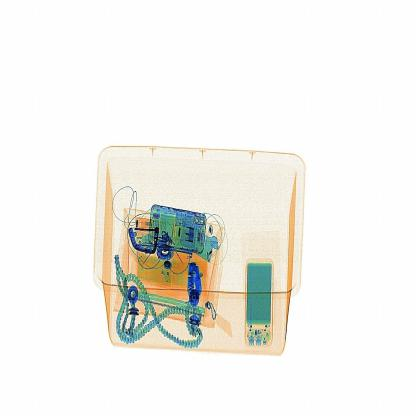scissors: (181, 258, 213, 308)
